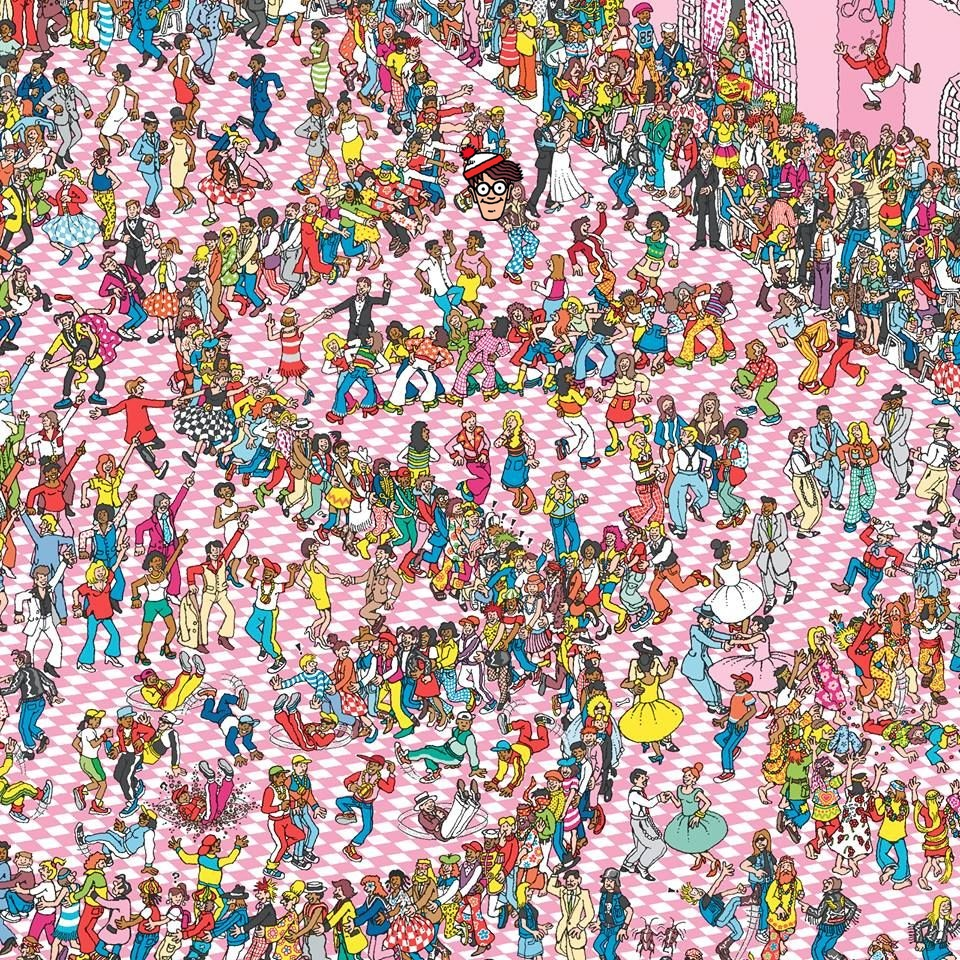waldo: (459, 143, 524, 221)
